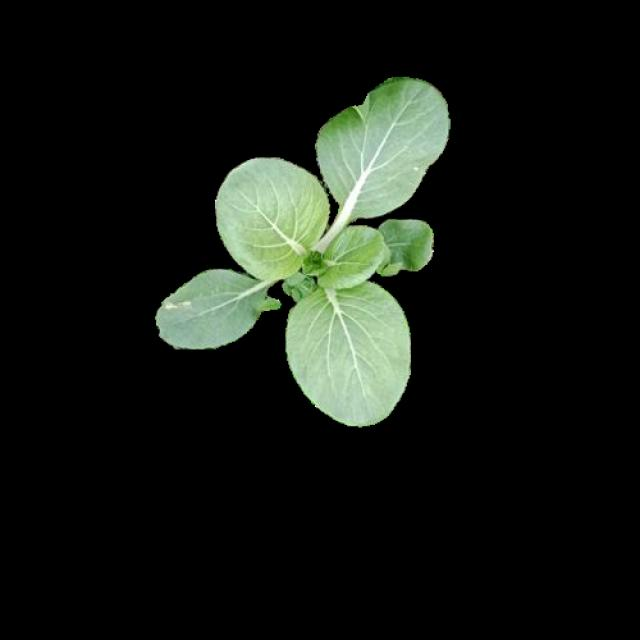not-mature: (156, 80, 449, 422)
unhealthy: (159, 268, 275, 348)
